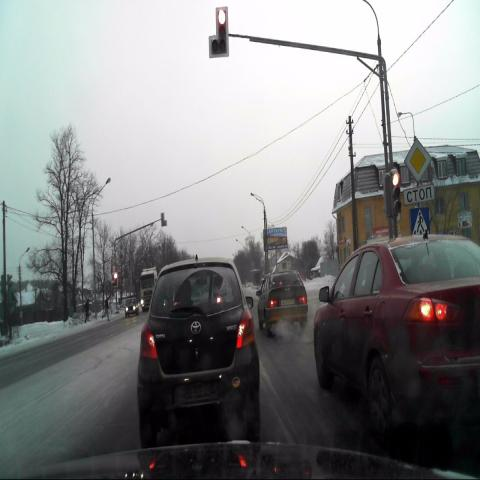6_16: (404, 184, 434, 204)
